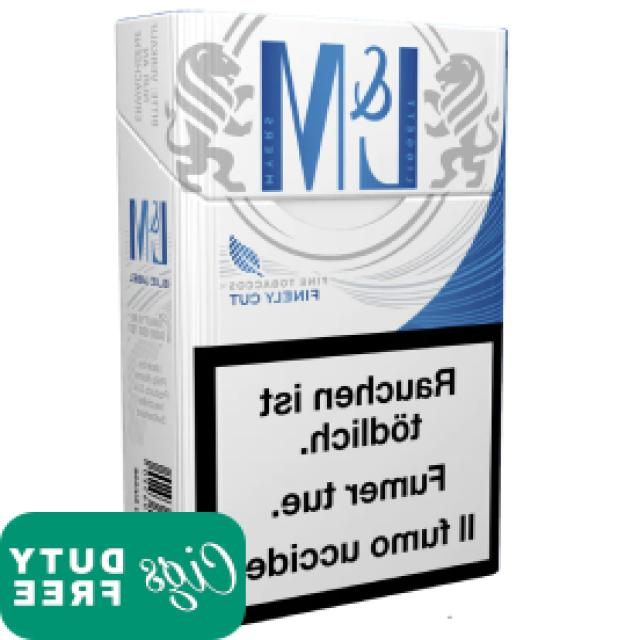lm: (84, 6, 518, 634)
